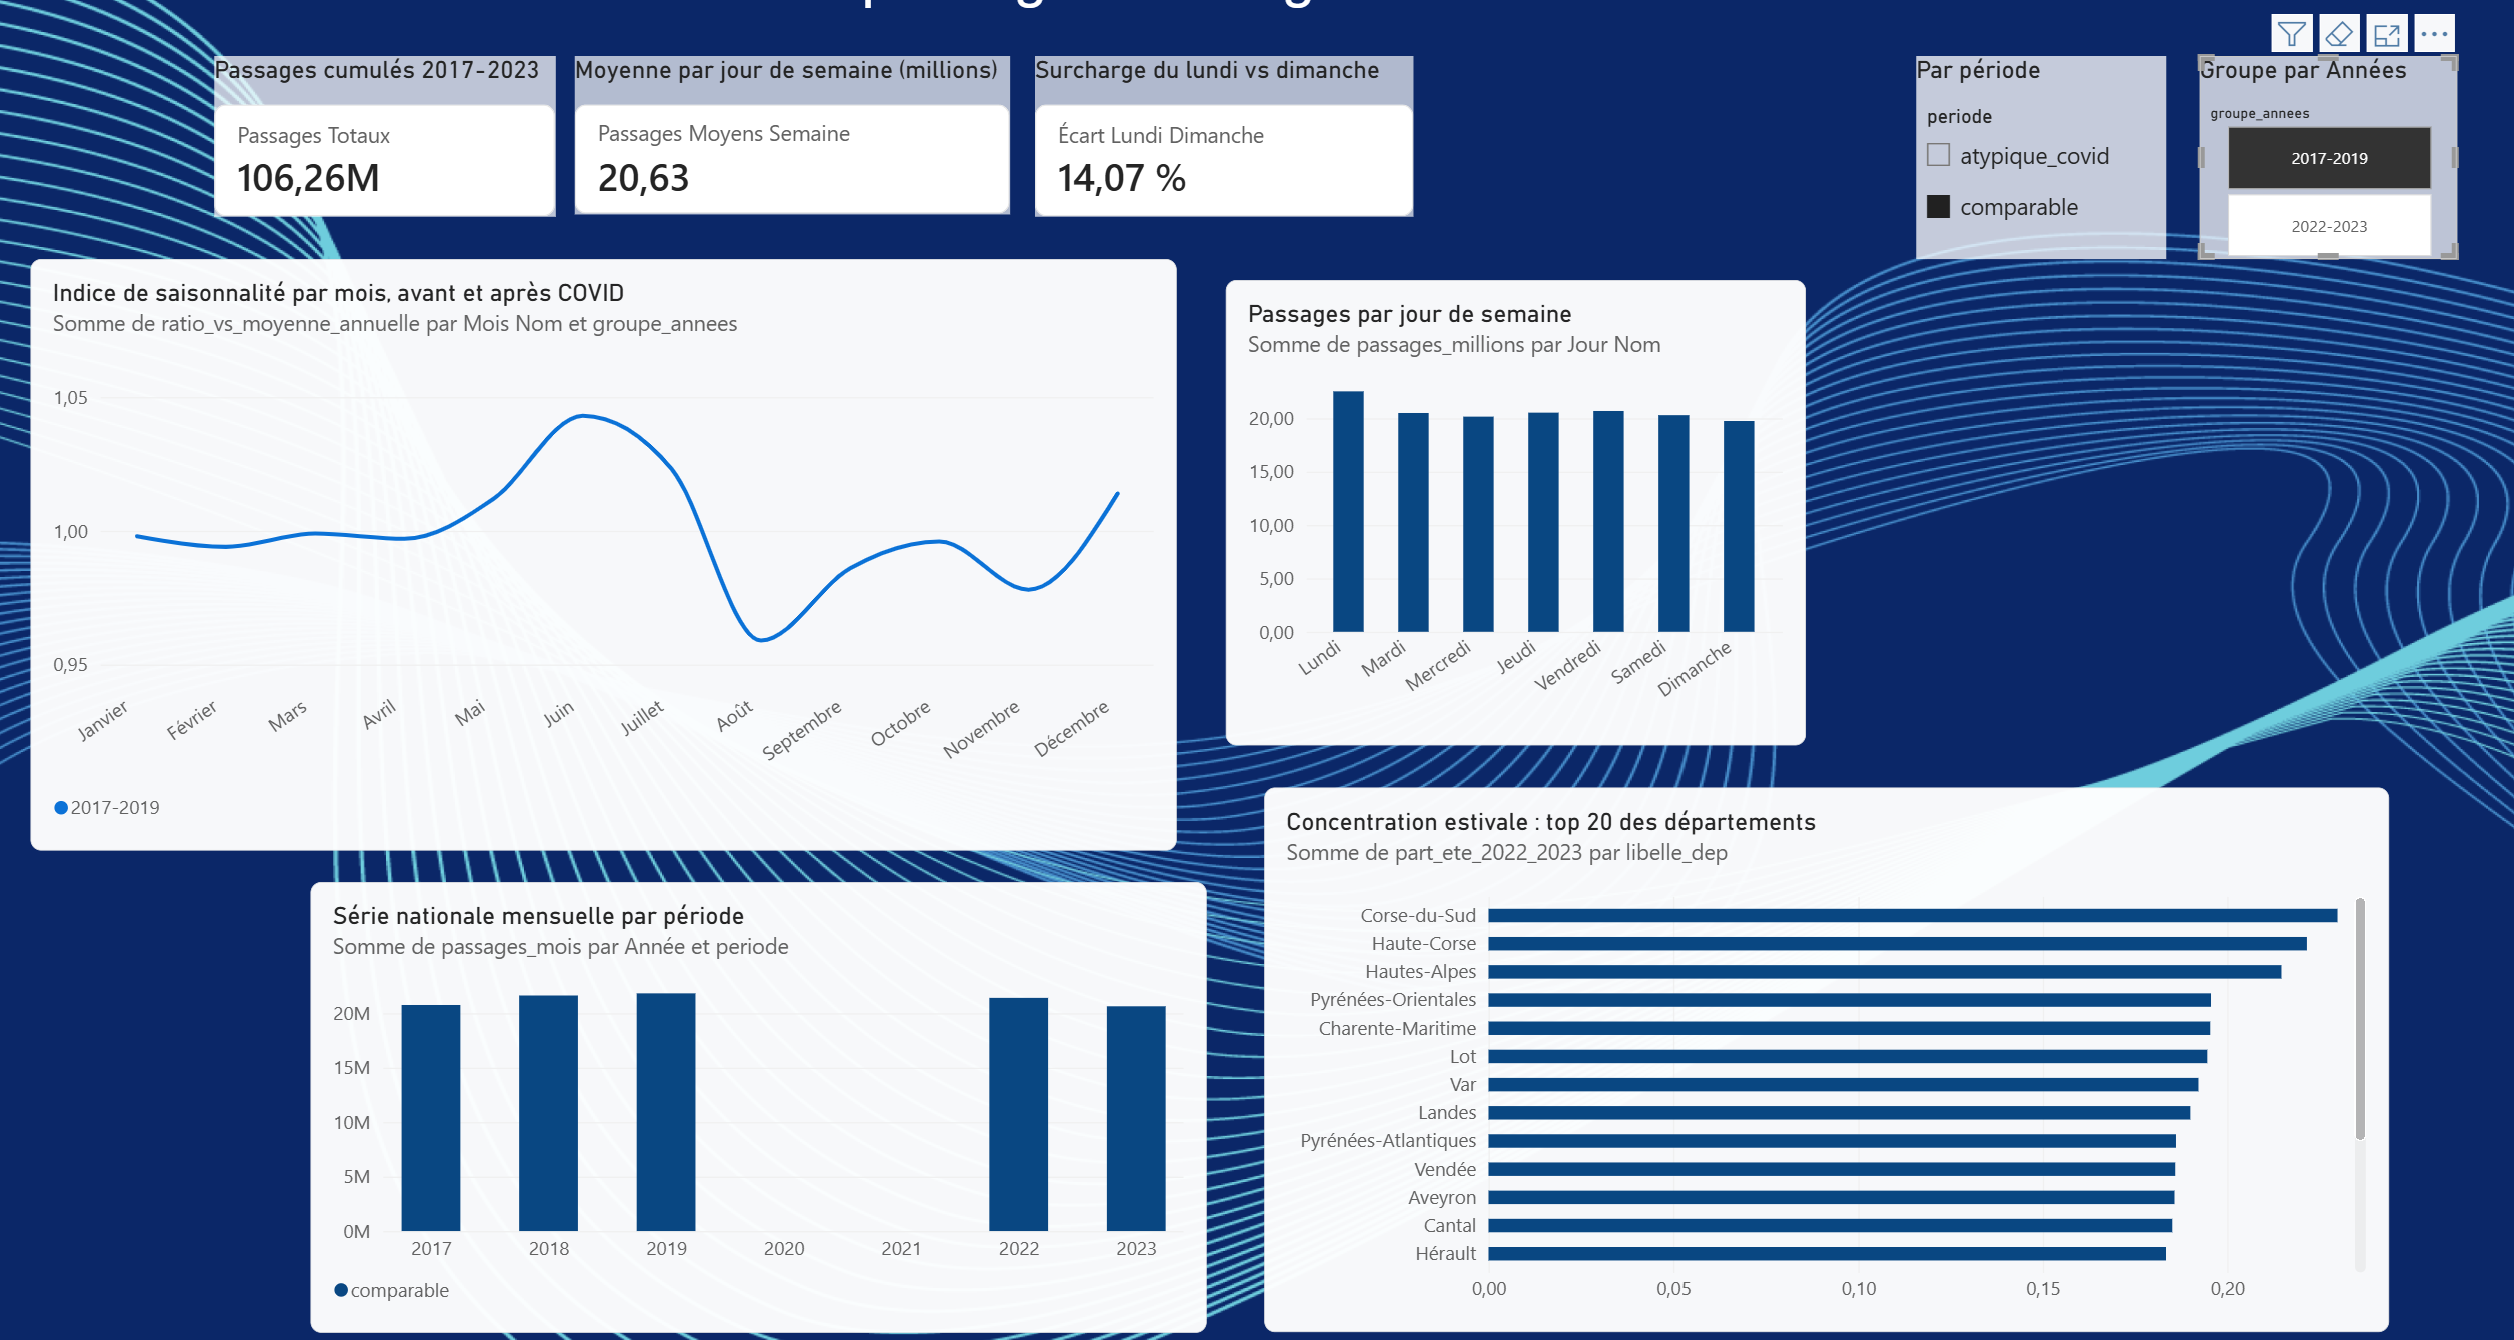

Layout of this report page (visuals, bound fields, positions):
{"tool":"powerbi","page":{"name":"Saisonnalité des passages aux urgences","canvas":[1920,1080],"ordinal":0},"visuals":[{"type":"textbox","box":[336.6,0,1528.3,62.5],"z":1},{"type":"lineChart","title":"Indice de saisonnalité par mois, avant et après COVID","fields":{"Category":["RatioMensuel.Mois Nom"],"Series":["RatioMensuel.groupe_annees"],"Y":["Sum(RatioMensuel.ratio_vs_moyenne_annuelle)"]},"box":[44.1,233.6,851.5,439.5],"z":2},{"type":"columnChart","title":"Passages par jour de semaine","fields":{"Category":["JourSemaine.Jour Nom"],"Y":["Sum(JourSemaine.passages_millions)"]},"box":[932.4,250.1,430.3,345.7],"z":3},{"type":"columnChart","title":"Série nationale mensuelle par période","fields":{"Category":["SerieNationale.mois.Variation.Hiérarchie de dates.Année","SerieNationale.mois.Variation.Hiérarchie de dates.Trimestre","SerieNationale.mois.Variation.Hiérarchie de dates.Mois","SerieNationale.mois.Variation.Hiérarchie de dates.Jour"],"Series":["SerieNationale.periode"],"Y":["Sum(SerieNationale.passages_mois)"]},"box":[252,697,665.7,334.7],"z":4},{"type":"barChart","title":"Concentration estivale : top 20 des départements","fields":{"Category":["Top20Ete.libelle_dep"],"Y":["Sum(Top20Ete.part_ete_2022_2023)"]},"box":[960,627.1,834.9,404.6],"z":5},{"type":"cardVisual","title":"Passages cumulés 2017-2023","fields":{"Data":["CycleMensuel.Passages Totaux"]},"box":[180.2,82.8,253.8,119.5],"z":6},{"type":"cardVisual","title":"Moyenne par jour de semaine (millions)","fields":{"Data":["CycleMensuel.Passages Moyens Semaine"]},"box":[448.7,82.8,323.7,117.7],"z":7},{"type":"cardVisual","title":"Surcharge du lundi vs dimanche","fields":{"Data":["CycleMensuel.Écart Lundi Dimanche"]},"box":[790.8,82.8,281.4,119.5],"z":8},{"type":"slicer","title":"Par période","fields":{"Values":["SerieNationale.periode"]},"box":[1443.7,82.8,185.7,150.8],"z":9},{"type":"slicer","title":"Groupe par Années","fields":{"Values":["RatioMensuel.groupe_annees"]},"box":[1655.2,82.8,191.3,150.8],"z":10}]}

Visuals, with their boxes on the page's 1920x1080 design canvas (x1, y1, x2, y2). These are canvas units, not pixel positions in the 2514x1340 screenshot, which may show the page scaled, cropped or inside an application window:
textbox: pyautogui.locateOnScreen(337, 0, 1865, 62)
"Indice de saisonnalité par mois, avant et après COVID" lineChart: pyautogui.locateOnScreen(44, 234, 896, 673)
"Passages par jour de semaine" columnChart: pyautogui.locateOnScreen(932, 250, 1363, 596)
"Série nationale mensuelle par période" columnChart: pyautogui.locateOnScreen(252, 697, 918, 1032)
"Concentration estivale : top 20 des départements" barChart: pyautogui.locateOnScreen(960, 627, 1795, 1032)
"Passages cumulés 2017-2023" cardVisual: pyautogui.locateOnScreen(180, 83, 434, 202)
"Moyenne par jour de semaine (millions)" cardVisual: pyautogui.locateOnScreen(449, 83, 772, 200)
"Surcharge du lundi vs dimanche" cardVisual: pyautogui.locateOnScreen(791, 83, 1072, 202)
"Par période" slicer: pyautogui.locateOnScreen(1444, 83, 1629, 234)
"Groupe par Années" slicer: pyautogui.locateOnScreen(1655, 83, 1846, 234)
